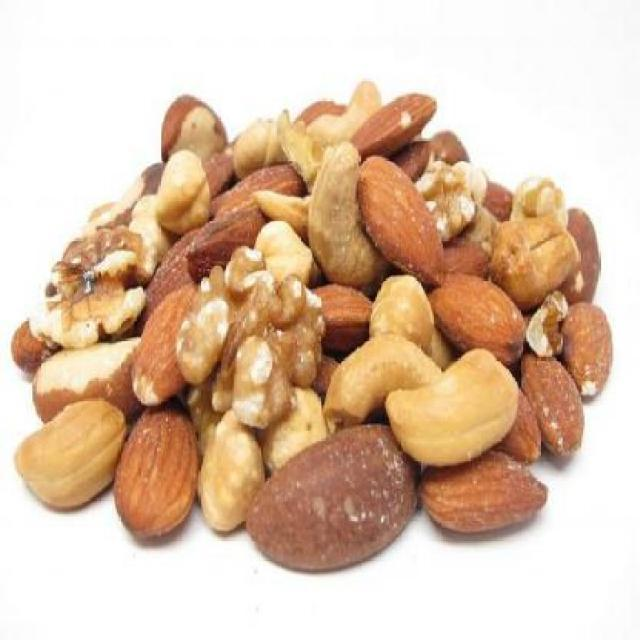Frutta secca: (15, 85, 618, 567)
